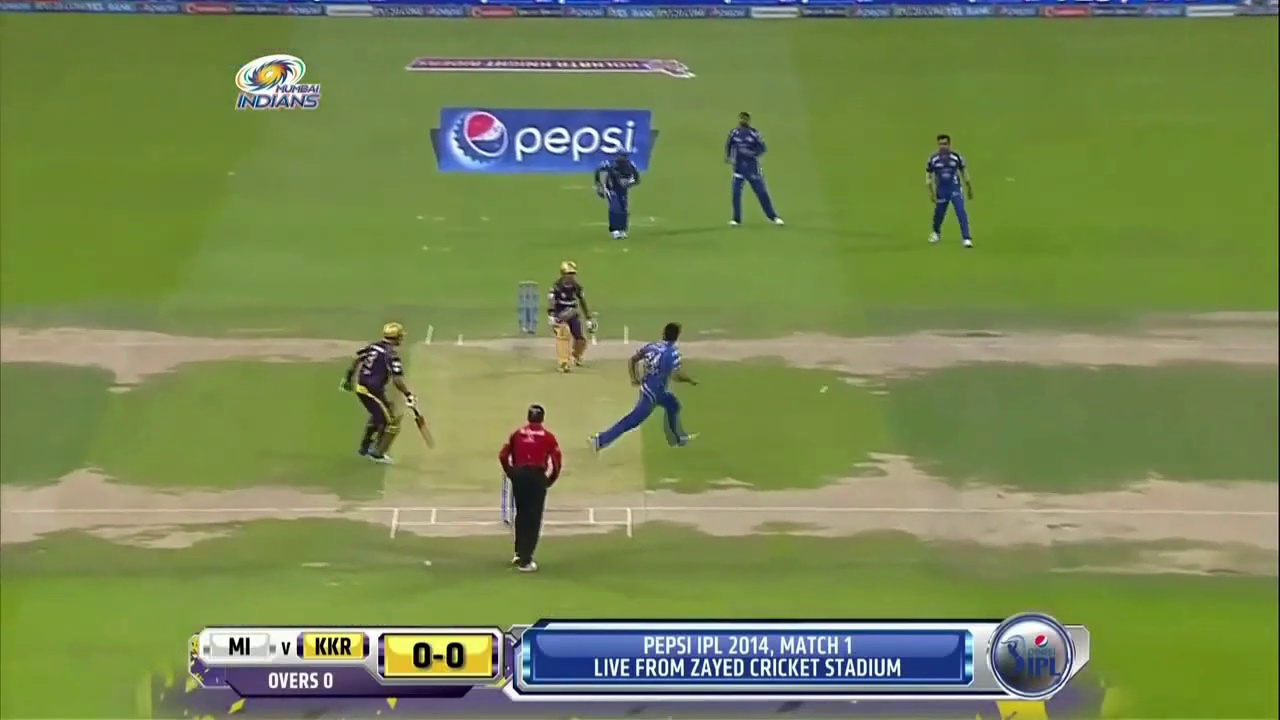bat: (412, 408, 435, 447)
